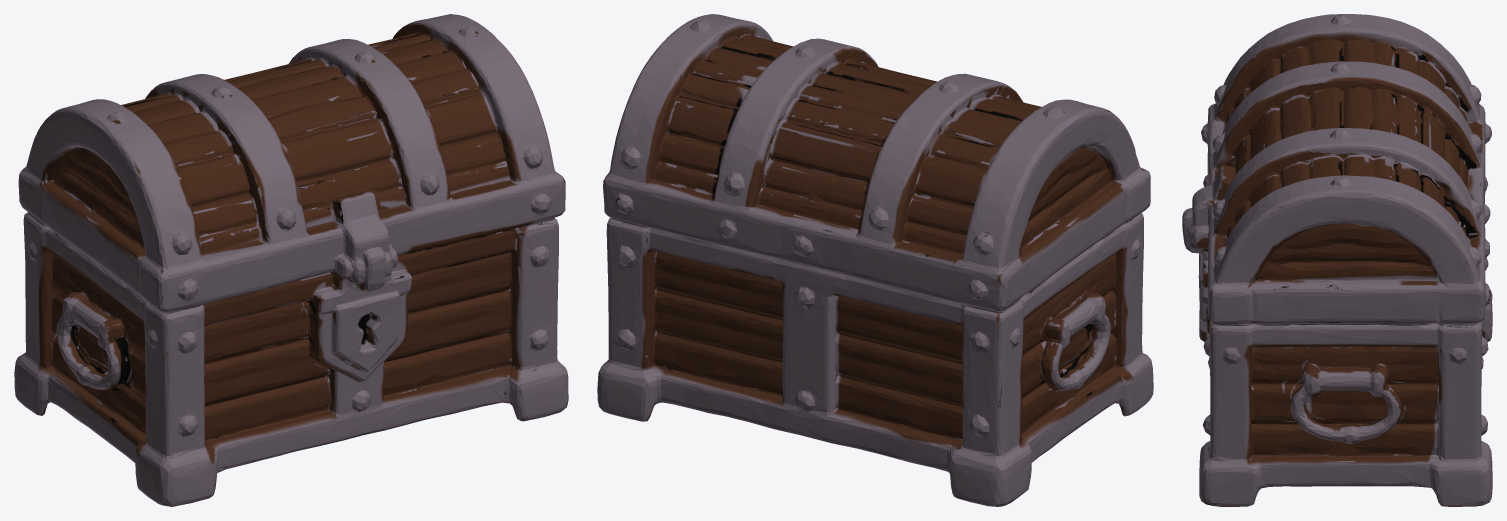
File: bau.glb
The picture shows the model from 3 angles, left to right: view 1: azimuth 30°, elevation 25°; view 2: azimuth 150°, elevation 25°; view 3: azimuth 270°, elevation 25°; orthographic projection. The views are drawn at different scales.
Visible parts, largest first — view 1: tmpodiqs6xa.ply; view 2: tmpodiqs6xa.ply; view 3: tmpodiqs6xa.ply.
Boxes of the visible parts, box(x1,y1,x2,y2) form: tmpodiqs6xa.ply: box(14, 14, 568, 506); tmpodiqs6xa.ply: box(597, 14, 1153, 506); tmpodiqs6xa.ply: box(1182, 14, 1492, 506).
Size of the model in its own units: 1.96 by 1.51 by 1.33.
Materials: 1 (1 with a texture image).
